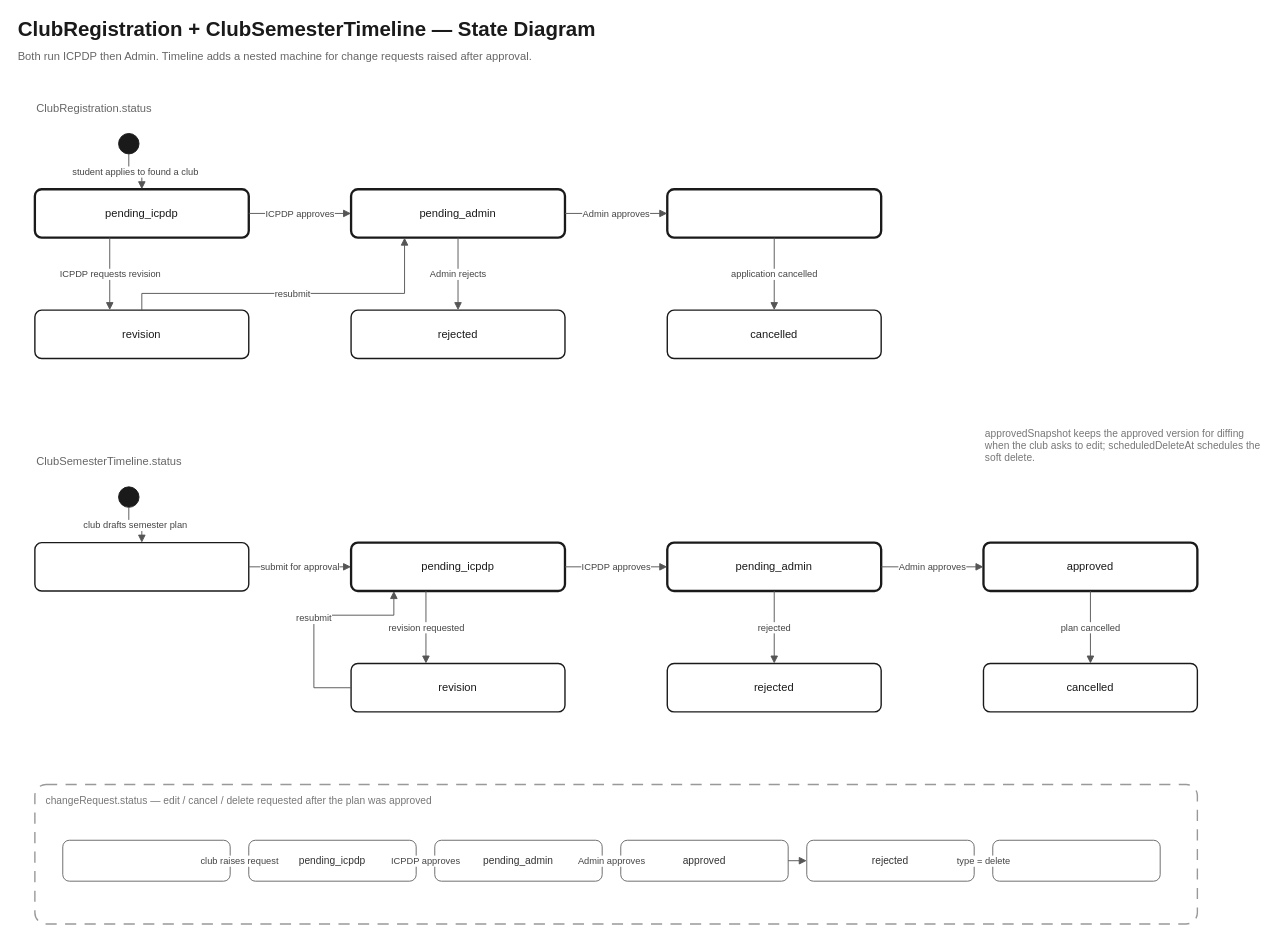
This 1278x940 diagram has some shape labels left out. The centre of each missing label's shape, as x and y in pixels:
"approved ⇒ creates Club (active)" goes at pixel 774 213.
"draft" goes at pixel 141 566.
"none" goes at pixel 146 860.
"scheduled_delete" goes at pixel 1076 860.
